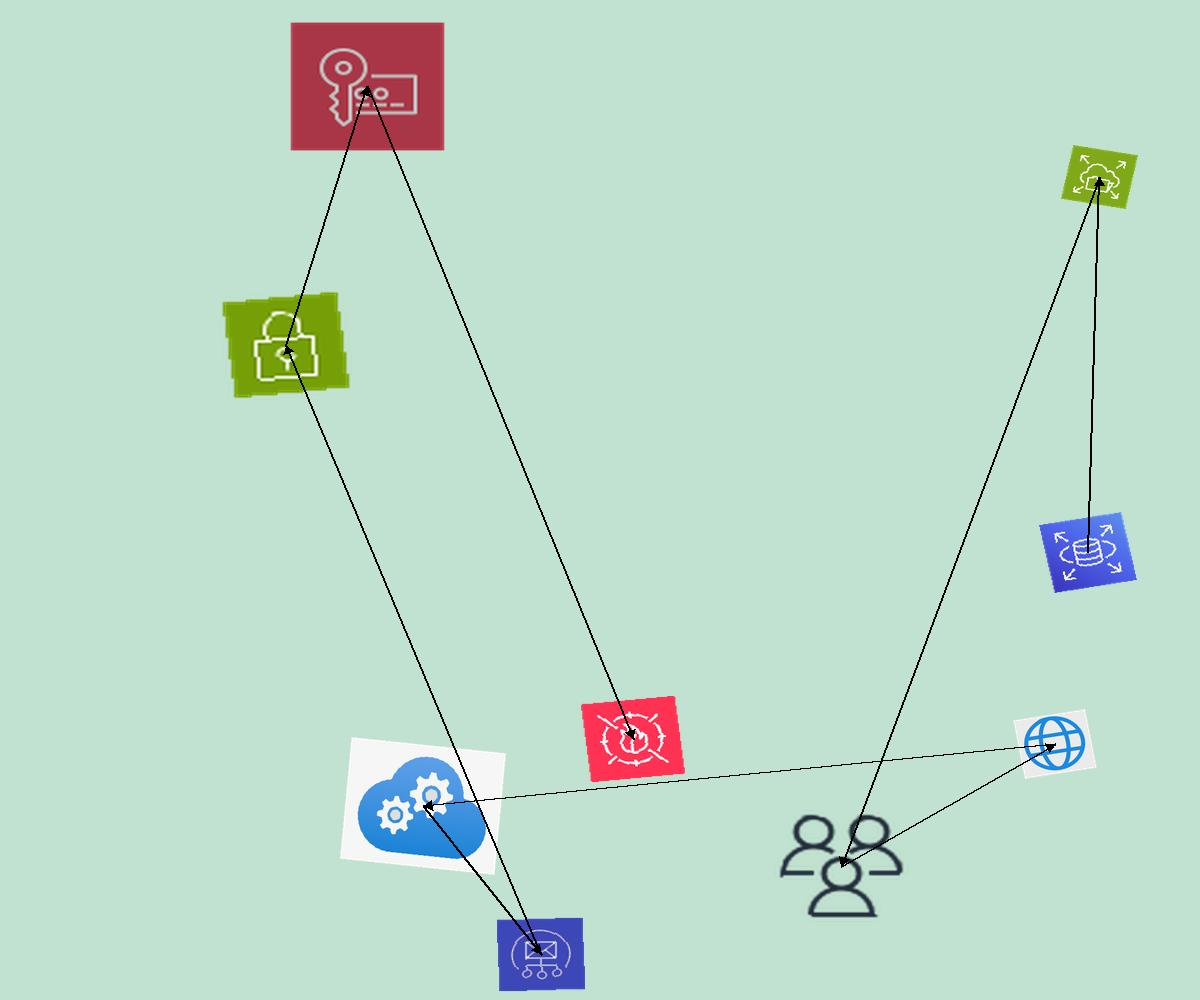AWS-EFS: (1061, 145, 1138, 209)
AWS-Key-Management-Service: (289, 21, 446, 152)
AWS-Public-subnet: (220, 290, 352, 400)
AWS-RDS: (1039, 512, 1137, 593)
AWS-Res_Users: (772, 808, 911, 924)
AWS-Simple-Email-Service: (496, 917, 586, 992)
AWS-WAF: (580, 695, 686, 783)
Azure_cloud_services: (340, 737, 506, 875)
Azure_http: (1013, 709, 1097, 779)
